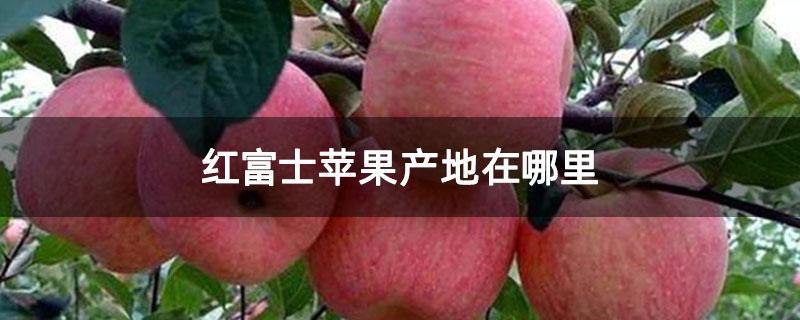apple: (136, 59, 342, 287), (315, 137, 527, 319), (519, 150, 727, 320), (15, 66, 176, 273), (365, 2, 573, 156)
